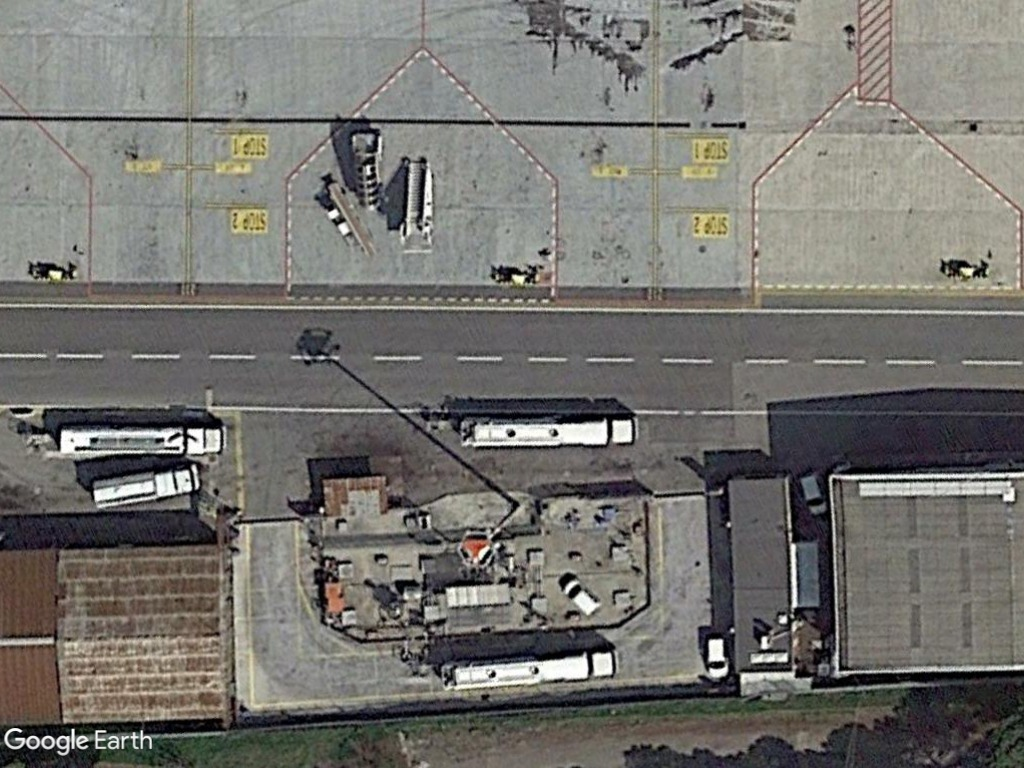car: (557, 572, 604, 618), (794, 471, 830, 520), (703, 635, 734, 682)
longvehicle: (436, 645, 623, 695), (459, 412, 641, 450), (55, 422, 230, 461)
stairtruck: (394, 152, 439, 256), (346, 130, 389, 212)
truck: (91, 465, 199, 510)
